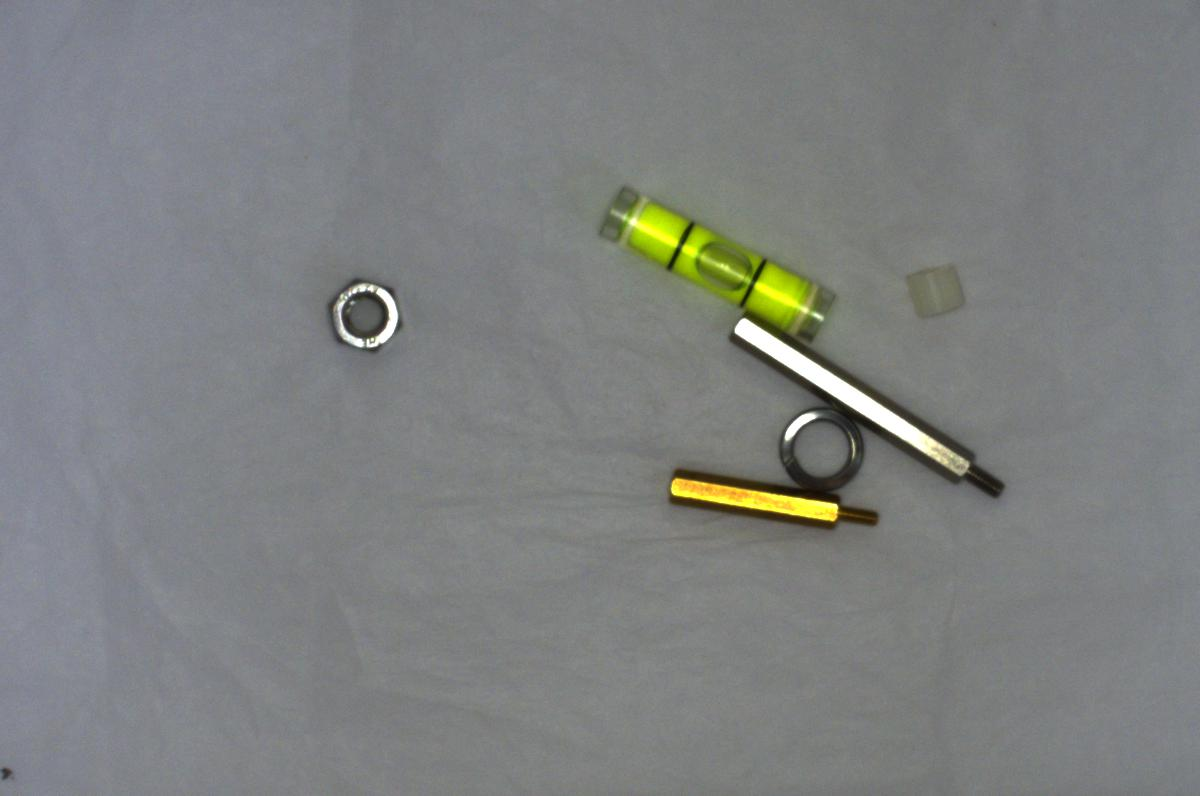Hexagon nut: (328, 274, 410, 358)
Hexagon pillar: (651, 464, 892, 533)
Hexagonal steel column: (717, 306, 1011, 506)
Horizontal bubble: (591, 183, 837, 341)
Plastic cushion pillar: (903, 253, 976, 330)
Spring washer: (767, 404, 871, 503)
